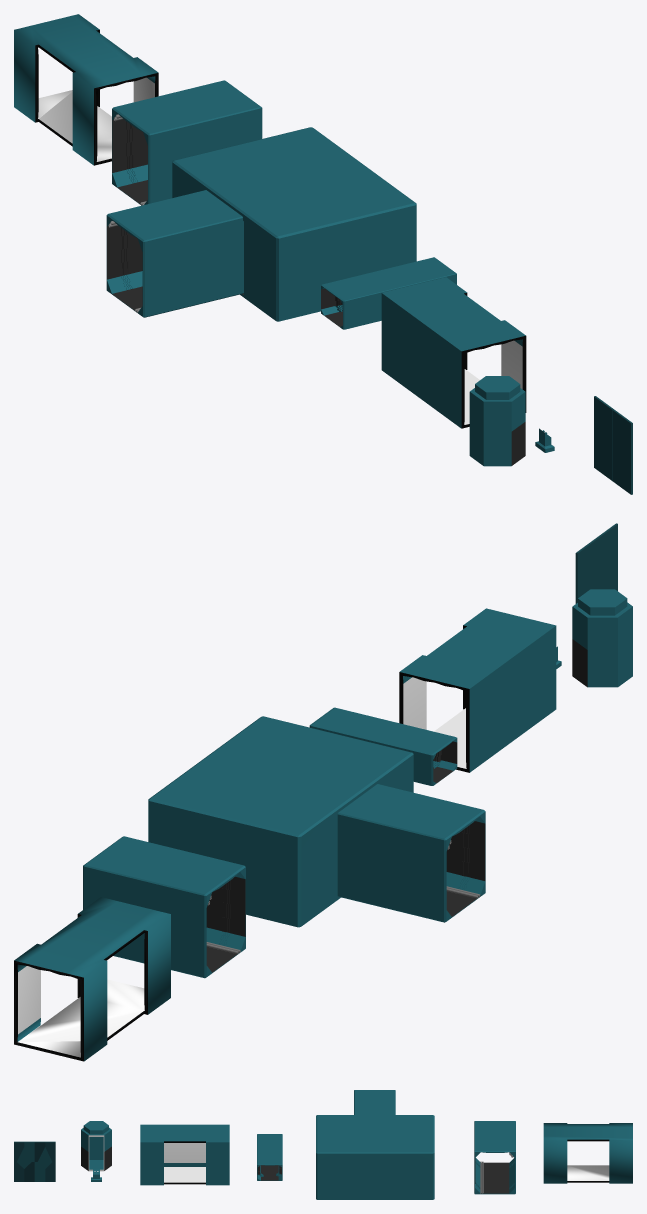
Rendered from AllPrefabsSpace.fbx.
3 views of the same model, one above another, from view 1: azimuth 30°, elevation 25°; view 2: azimuth 150°, elevation 25°; view 3: azimuth 270°, elevation 25° (orthographic). The views are drawn at different scales.
Parts seen in each view (by area): view 1: Cube.001, Cube.007, Cube.004, Cube.005, Cube, Cylinder.008, Cube.003, DOOR L, DOOR R; view 2: Cube.001, Cube.007, Cube.005, Cube.004, Cube, Cylinder.008, Cube.003, DOOR L, DOOR R; view 3: Cube.001, Cube.004, Cube.005, Cube, Cylinder.008, Cube.003, Cube.007, DOOR R, DOOR L.
Boxes of the visible parts, x1,y1,x2,y2 form: Cube.001: (172,127,416,321); Cube.007: (106,190,243,317); Cube.004: (381,277,526,428); Cube.005: (14,14,158,165); Cube: (112,80,262,205); Cylinder.008: (469,376,554,466); Cube.003: (321,257,456,329); DOOR L: (612,409,632,494); DOOR R: (594,396,613,480); Cube.001: (148,716,413,927); Cube.007: (337,784,485,922); Cube.005: (14,897,170,1061); Cube.004: (399,608,556,772); Cube: (83,836,245,978); Cylinder.008: (556,589,632,687); Cube.003: (309,707,457,785); DOOR L: (596,523,617,590); DOOR R: (575,538,597,603); Cube.001: (316,1115,434,1199); Cube.004: (140,1124,229,1185); Cube.005: (543,1123,632,1183); Cube: (474,1121,515,1194); Cylinder.008: (81,1121,111,1181); Cube.003: (257,1134,282,1180); Cube.007: (354,1090,395,1114); DOOR R: (34,1141,55,1181); DOOR L: (14,1141,34,1181).
Bounding box in the file's own units: 2606 × 882 × 10401.
